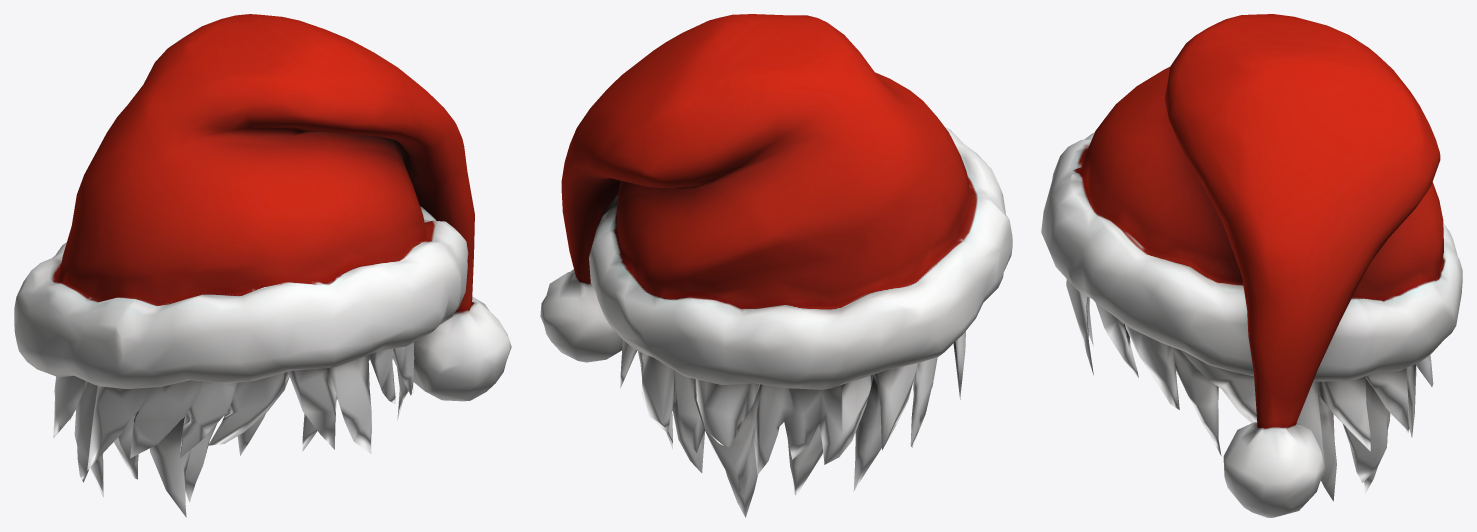
File: tripo_santa_hat.glb
3 renders of one model, left to right at view 1: azimuth 30°, elevation 25°; view 2: azimuth 150°, elevation 25°; view 3: azimuth 270°, elevation 25°, orthographic. The views are drawn at different scales.
Visible parts, largest first — view 1: tripo_node_5a23073e-e451-4a5e-a27b-b2d08c151b50; view 2: tripo_node_5a23073e-e451-4a5e-a27b-b2d08c151b50; view 3: tripo_node_5a23073e-e451-4a5e-a27b-b2d08c151b50.
Boxes of the visible parts, x1=… form: tripo_node_5a23073e-e451-4a5e-a27b-b2d08c151b50: x1=14, y1=14, x2=511, y2=517; tripo_node_5a23073e-e451-4a5e-a27b-b2d08c151b50: x1=540, y1=14, x2=1012, y2=517; tripo_node_5a23073e-e451-4a5e-a27b-b2d08c151b50: x1=1041, y1=14, x2=1462, y2=517.
Size of the model in its own units: 0.9784 by 0.9837 by 0.7999.
Materials: 1 (1 with a texture image).
